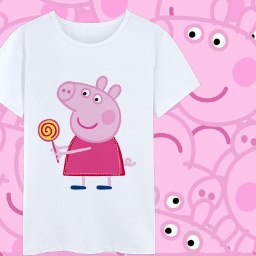Peppa: (54, 76, 138, 192)
